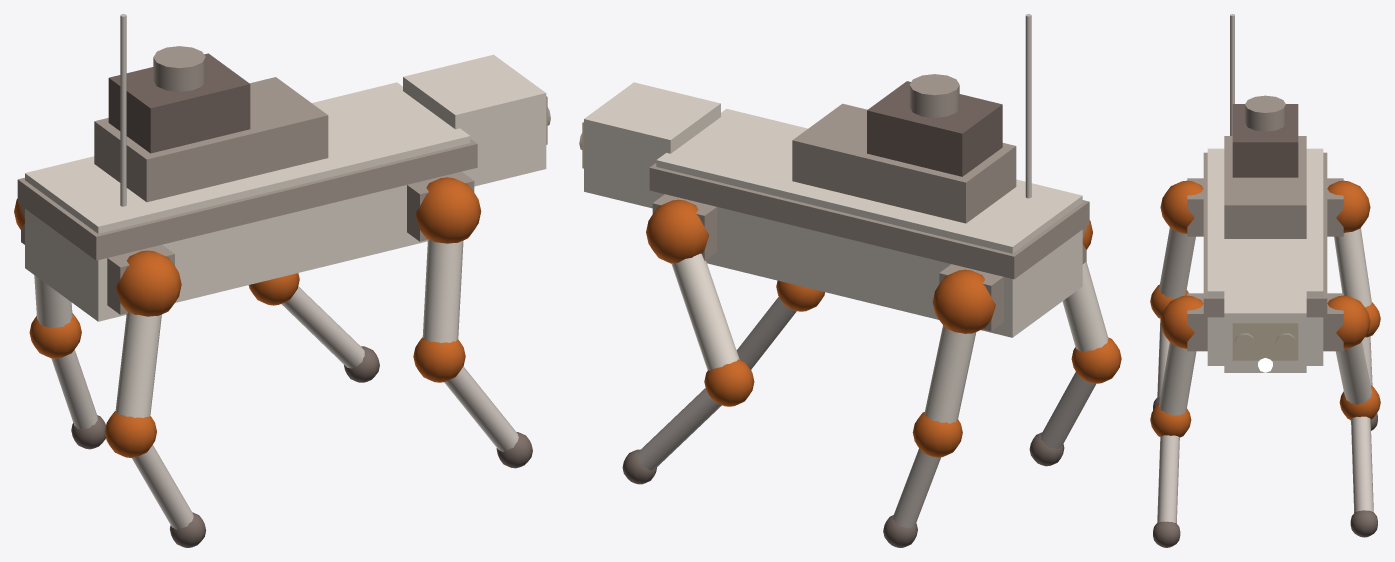
Rendered from V12_inspection_robot.glb.
The picture shows the model from 3 angles, left to right: view 1: azimuth 30°, elevation 25°; view 2: azimuth 150°, elevation 25°; view 3: azimuth 270°, elevation 25°; orthographic projection. The views are drawn at different scales.
Visible parts, largest first — view 1: torso, payload_rail, torso_band, head, sensor_pack, lower_leg (×4), upper_leg (×3), hip_joint (×2), knee_joint (×4), foot (×4), hip_motor (×2), lidar (+1 smaller); view 2: torso, payload_rail, torso_band, head, upper_leg (×3), sensor_pack, lower_leg (×4), hip_joint (×2), knee_joint (×4), hip_motor (×2), foot (×3), lidar (+1 smaller); view 3: torso, upper_leg (×4), payload_rail, hip_joint (×4), head, lower_leg (×4), sensor_pack, hip_motor (×4), knee_joint (×4), torso_band, visor, lidar (+3 smaller).
Part boxes in pixels (x1,y1,x2,y2): torso: (25, 82, 470, 321); payload_rail: (94, 77, 328, 202); torso_band: (17, 139, 477, 260); head: (403, 54, 546, 186); sensor_pack: (108, 53, 250, 153); lower_leg (×4): (51, 286, 518, 529); upper_leg (×3): (34, 239, 463, 417); hip_joint (×2): (115, 177, 481, 316); knee_joint (×4): (29, 273, 465, 457); foot (×4): (71, 346, 532, 547); hip_motor (×2): (107, 171, 474, 314); lidar: (153, 46, 205, 91); torso: (656, 108, 1082, 337); payload_rail: (792, 103, 1016, 223); torso_band: (649, 163, 1089, 279); head: (584, 82, 720, 208); upper_leg (×3): (671, 253, 1108, 423); sensor_pack: (867, 81, 1002, 176); lower_leg (×4): (637, 297, 1095, 527); hip_joint (×2): (646, 199, 995, 333); knee_joint (×4): (704, 280, 1121, 457); hip_motor (×2): (652, 194, 1003, 331); foot (×3): (622, 432, 1064, 547); lidar: (909, 74, 959, 117); torso: (1207, 148, 1323, 365); upper_leg (×4): (1159, 228, 1371, 415); payload_rail: (1224, 136, 1306, 238); hip_joint (×4): (1160, 180, 1370, 348); head: (1224, 278, 1306, 372); lower_leg (×4): (1157, 318, 1373, 523); sensor_pack: (1232, 104, 1298, 177); hip_motor (×4): (1187, 178, 1343, 351); knee_joint (×4): (1150, 284, 1380, 437); torso_band: (1203, 152, 1327, 317); visor: (1232, 320, 1298, 360); lidar: (1245, 95, 1285, 131).
Bounding box in the file's own units: 1.07 × 1.07 × 0.56.
